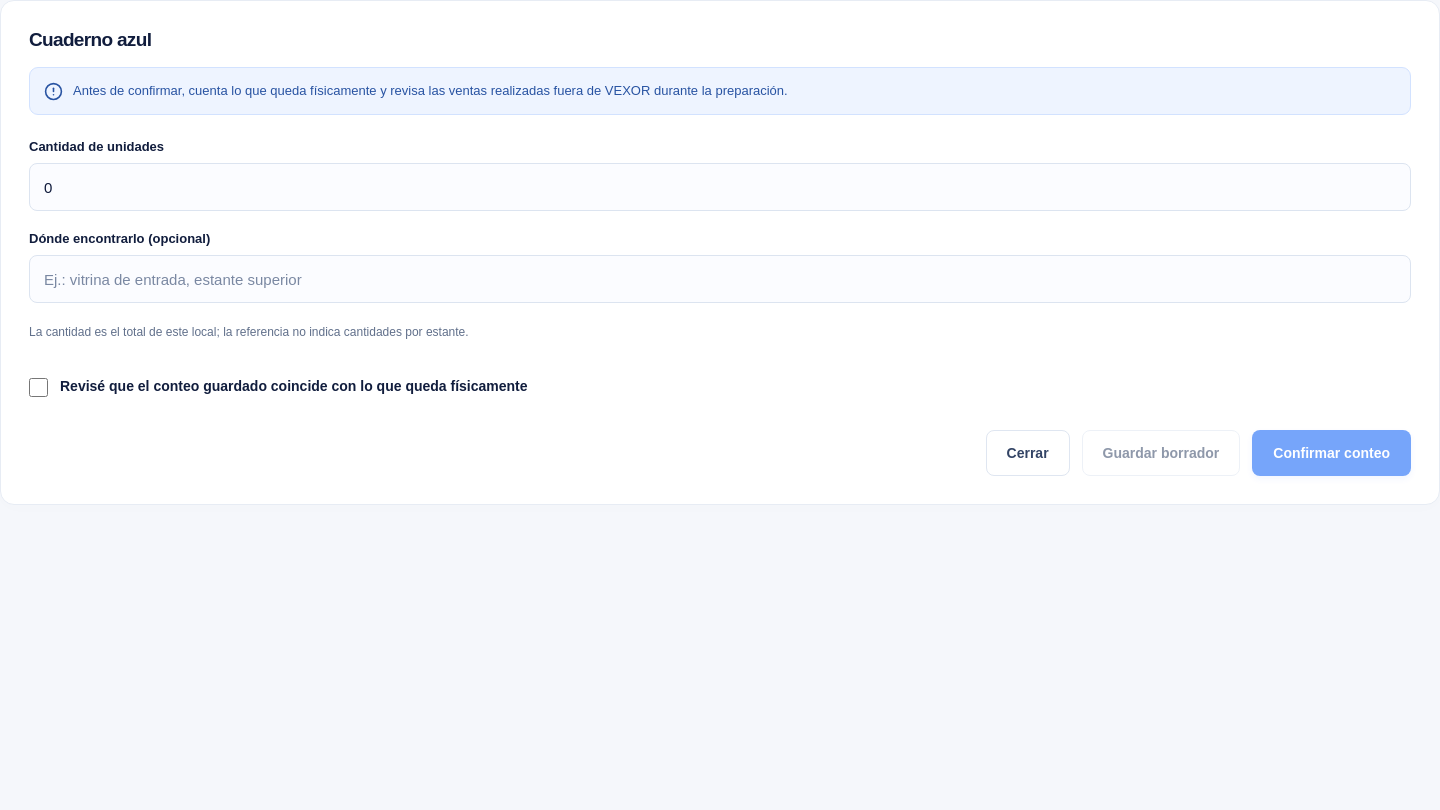
Test: conserva el borrador visible si falla la red y no declara el guardado exitoso
Replace the text in the number field labelled "Cantidad de unidades" with "8" at [720, 187], box top-left (29, 163), bottom-right (1411, 211)
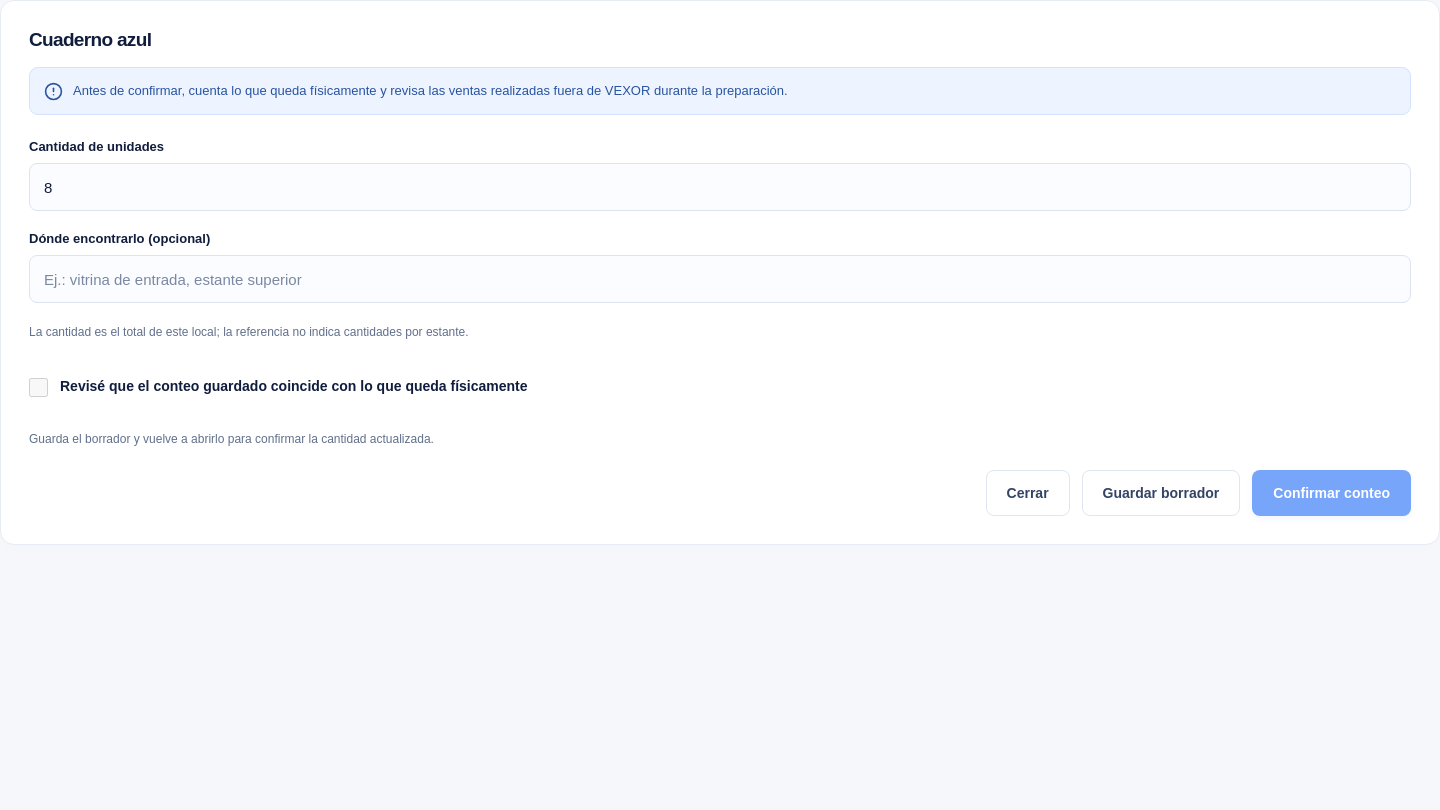
Click the button "Guardar borrador" at [1161, 493], box top-left (1082, 470), bottom-right (1240, 516)
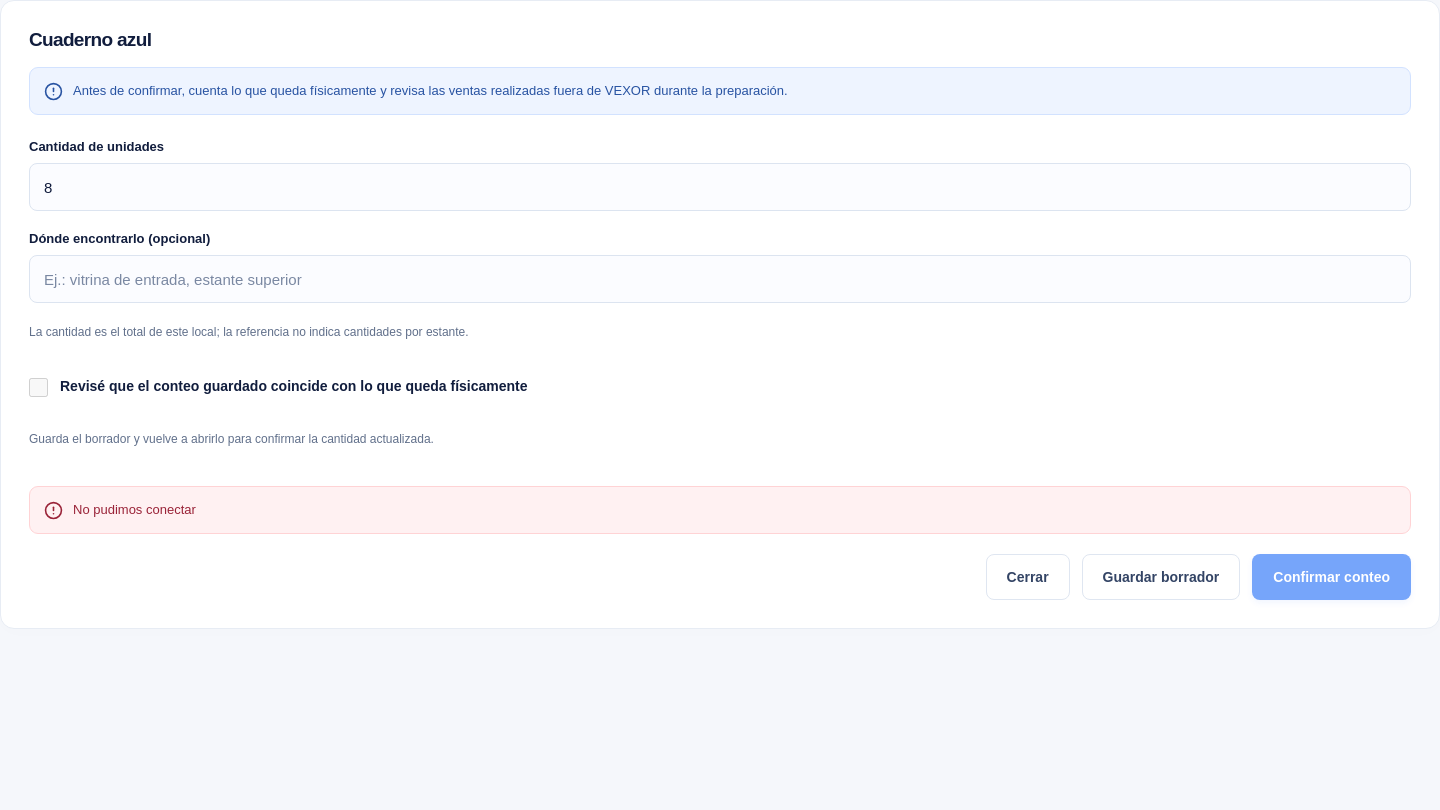
Now the message "No pudimos conectar" is shown, box top-left (29, 486), bottom-right (1411, 534)
